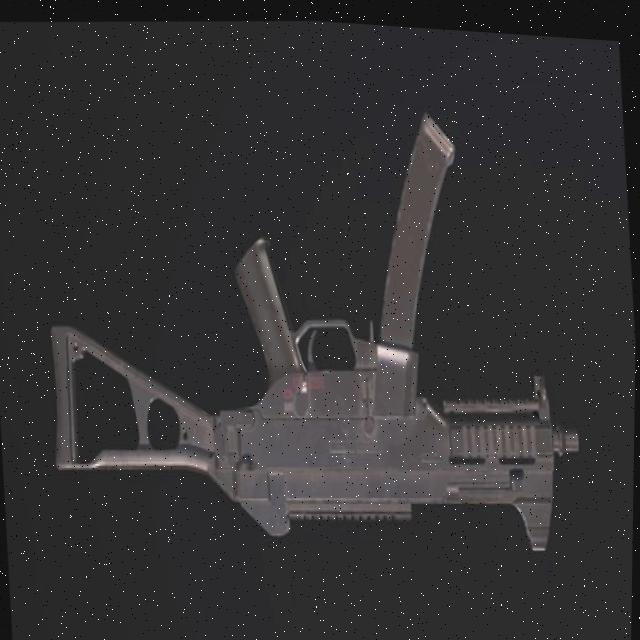firearm: (31, 78, 591, 581)
